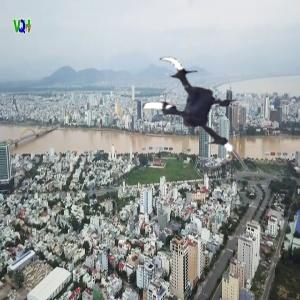drone: (127, 50, 249, 172)
